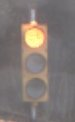Red: (20, 14, 52, 105)
